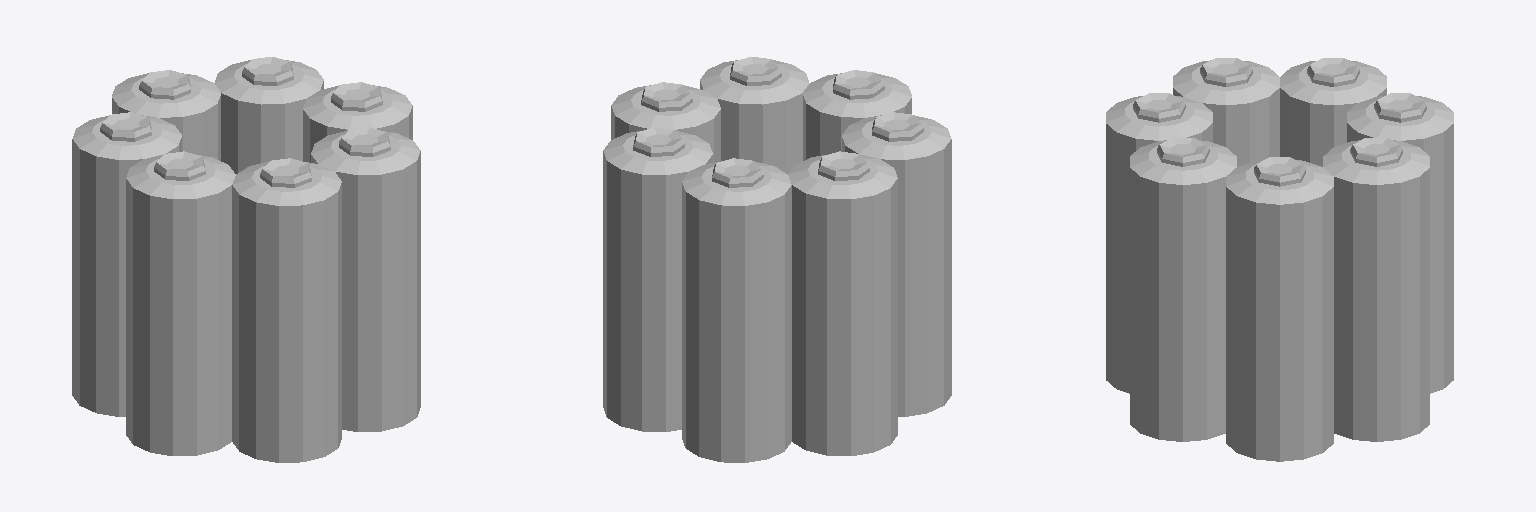
The model's file is AmmoMA75Bgrenade.obj.
The picture shows the model from 3 angles: view 1: azimuth 30°, elevation 25°; view 2: azimuth 150°, elevation 25°; view 3: azimuth 270°, elevation 25°; orthographic projection.
Parts seen in each view (by area): view 1: Cube.056_Cube.070; view 2: Cube.056_Cube.070; view 3: Cube.056_Cube.070.
Boxes of the visible parts, <box> form: Cube.056_Cube.070: <box>72,57,420,462</box>; Cube.056_Cube.070: <box>603,57,951,462</box>; Cube.056_Cube.070: <box>1106,58,1453,461</box>.
Size of the model in its own units: 1.06 by 0.9409 by 1.07.